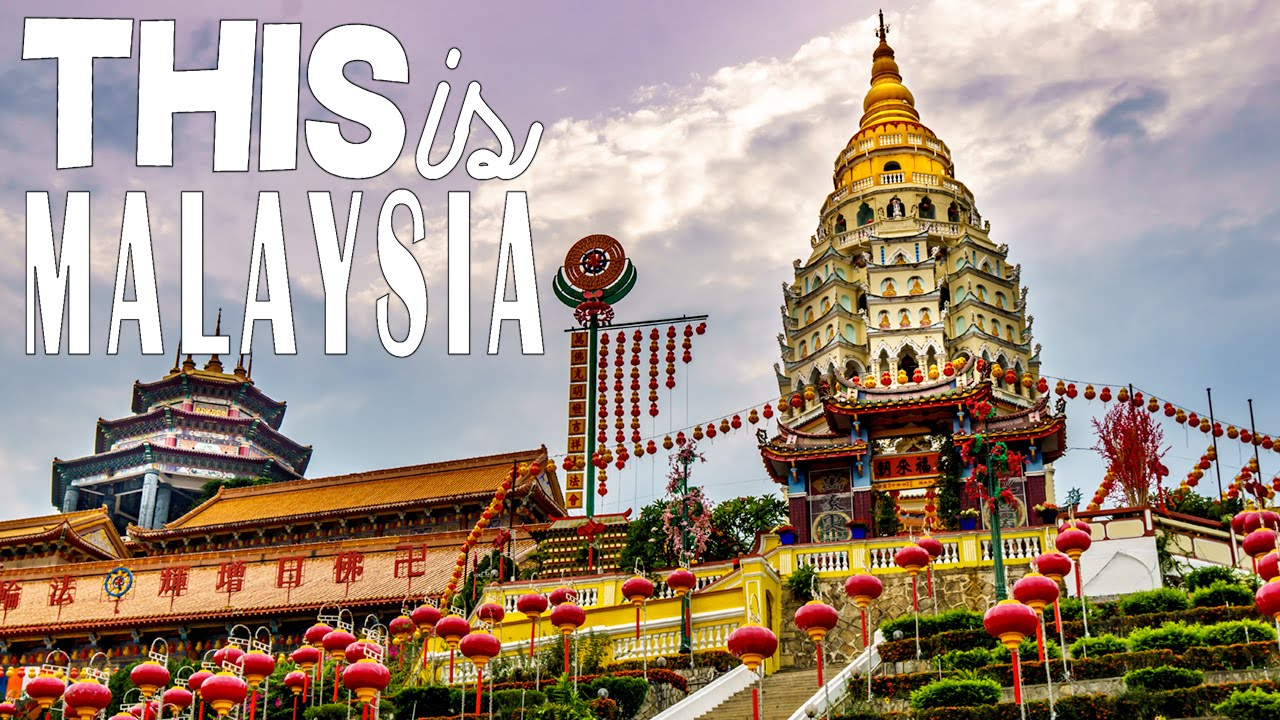Buddhist Temple: (756, 19, 1032, 507)
